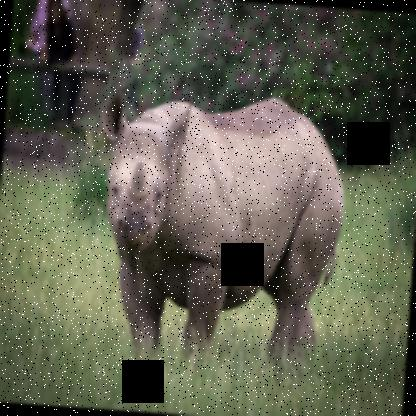Diceros bicornis: (83, 86, 351, 388)
